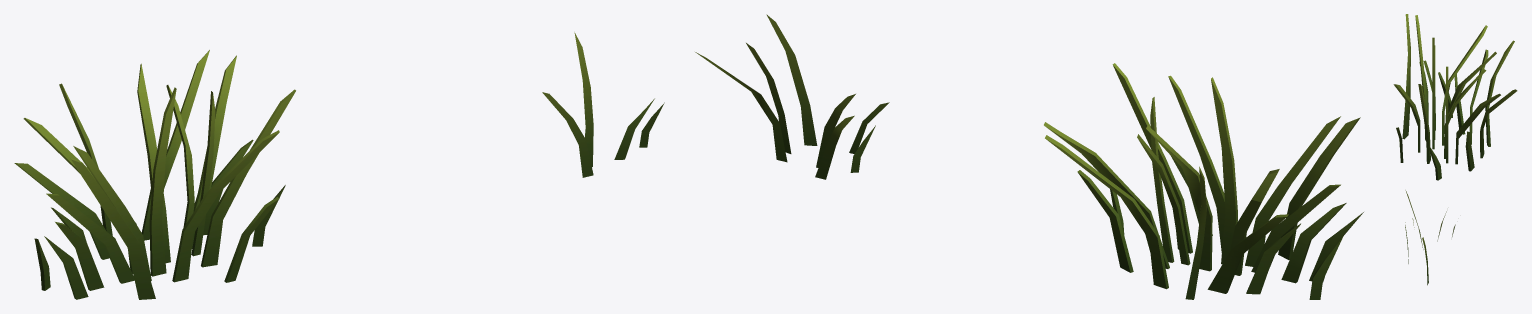
Rendered from grass.glb.
3 views of the same model, side by side, from view 1: azimuth 30°, elevation 25°; view 2: azimuth 150°, elevation 25°; view 3: azimuth 270°, elevation 25° (orthographic). The views are drawn at different scales.
Parts seen in each view (by area): view 1: Grass_Large_Extruded, Grass_Small; view 2: Grass_Large_Extruded, Grass_Small; view 3: Grass_Large_Extruded, Grass_Small.
Part boxes in pixels (x1=…): Grass_Large_Extruded: x1=14, y1=50, x2=295, y2=299; Grass_Small: x1=542, y1=32, x2=664, y2=177; Grass_Large_Extruded: x1=1044, y1=63, x2=1363, y2=299; Grass_Small: x1=695, y1=14, x2=889, y2=179; Grass_Large_Extruded: x1=1393, y1=14, x2=1517, y2=180; Grass_Small: x1=1405, y1=190, x2=1455, y2=285.
Bounding box in the file's own units: 1.84 × 0.5112 × 0.4973.
1 material, 1 textured.
